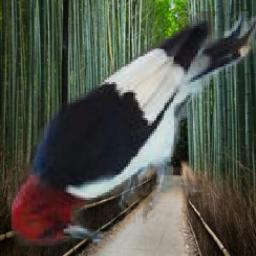Woodpecker: (13, 12, 256, 247)
